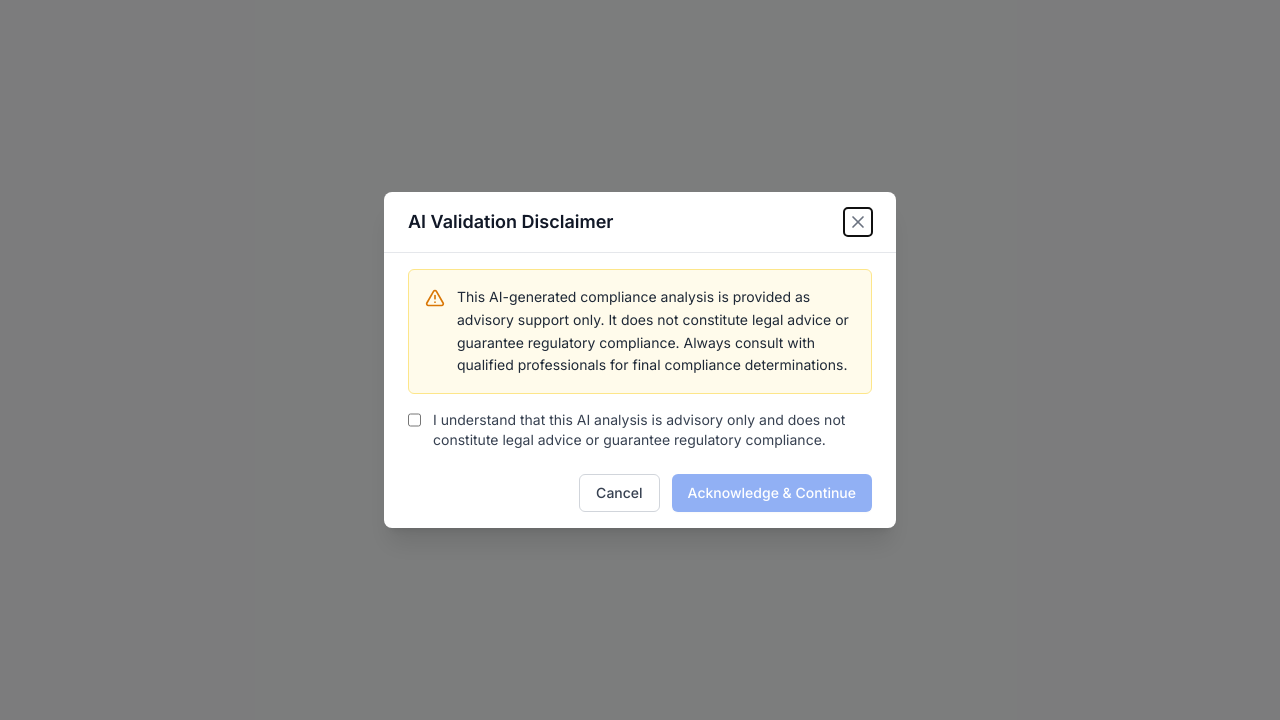
Test case: DisclaimerModal › enables "Acknowledge & Continue" button when checkbox is checked
The image size is (1280, 720).
Click the checkbox: point(414, 420) [408,412,421,428]
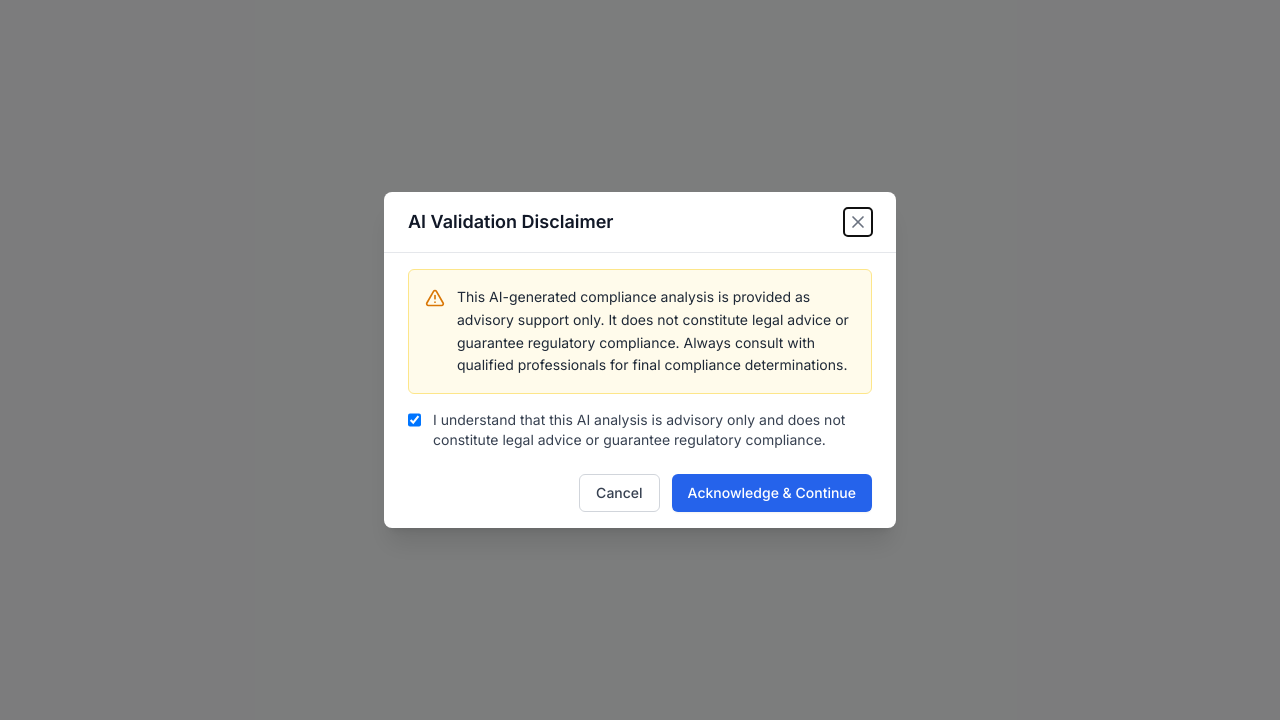
Check: the button "Acknowledge & Continue" is enabled, box [672,474,872,512]
